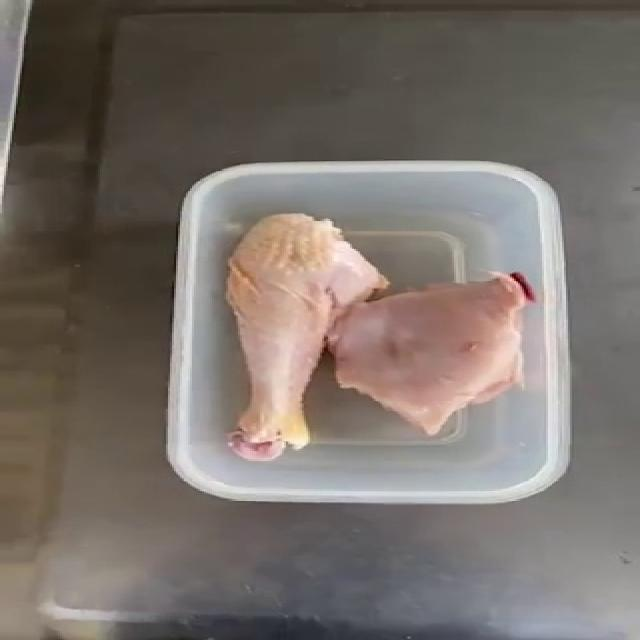chicken: (228, 209, 534, 448)
